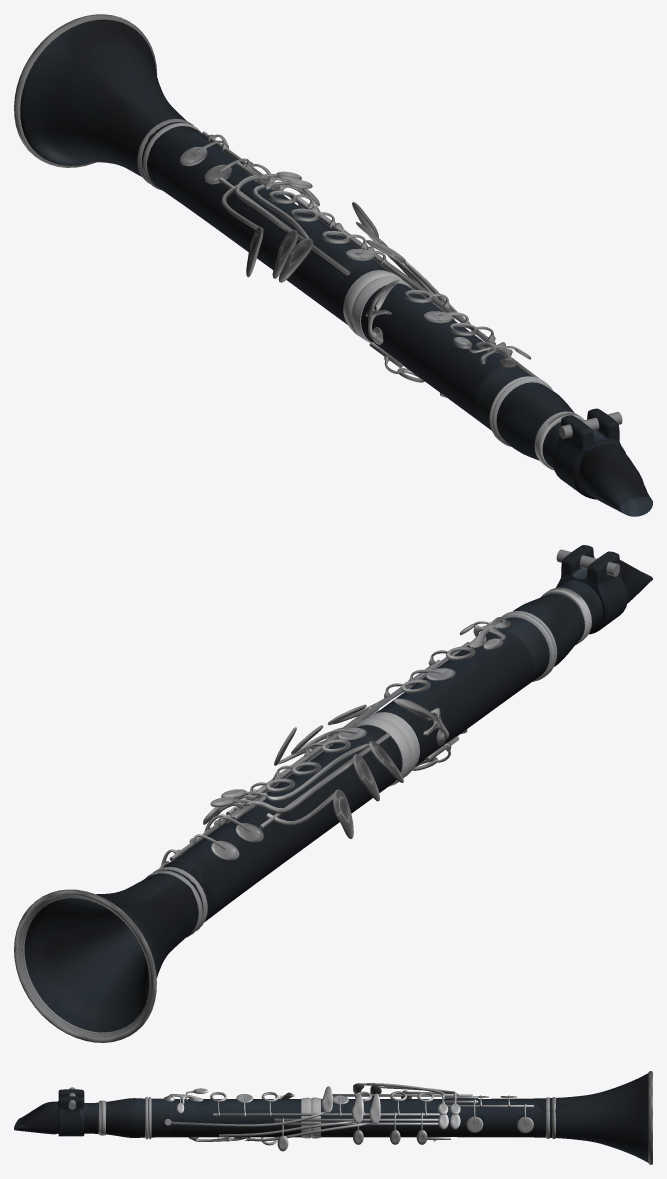
File: clarinet_model_with_annotations.glb
3 views of the same model, one above another, from view 1: azimuth 30°, elevation 25°; view 2: azimuth 150°, elevation 25°; view 3: azimuth 270°, elevation 25° (orthographic). The views are drawn at different scales.
Visible parts, largest first — view 1: Object_3, Object_4; view 2: Object_3, Object_4; view 3: Object_3, Object_4.
Part boxes in pixels (<box>): Object_3: <box>14,14,650,513</box>; Object_4: <box>343,270,652,516</box>; Object_3: <box>14,552,652,1042</box>; Object_4: <box>37,545,625,1033</box>; Object_3: <box>16,1071,652,1164</box>; Object_4: <box>14,1087,320,1139</box>.
Size of the model in its own units: 9.47 by 9.49 by 64.32.
Materials: 1 (1 with a texture image).
